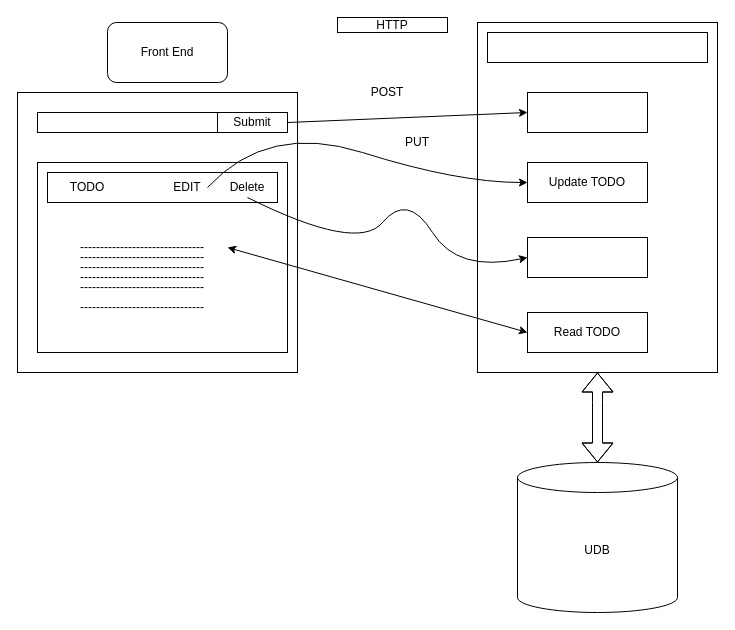
This 735x630 diagram has some shape labels left out. Here are the shapes that lost their labels. From the top down, the box of each, then its label:
(486, 32, 708, 62): The Server
(526, 92, 648, 132): Create TODO
(526, 236, 648, 278): Delete TODO
